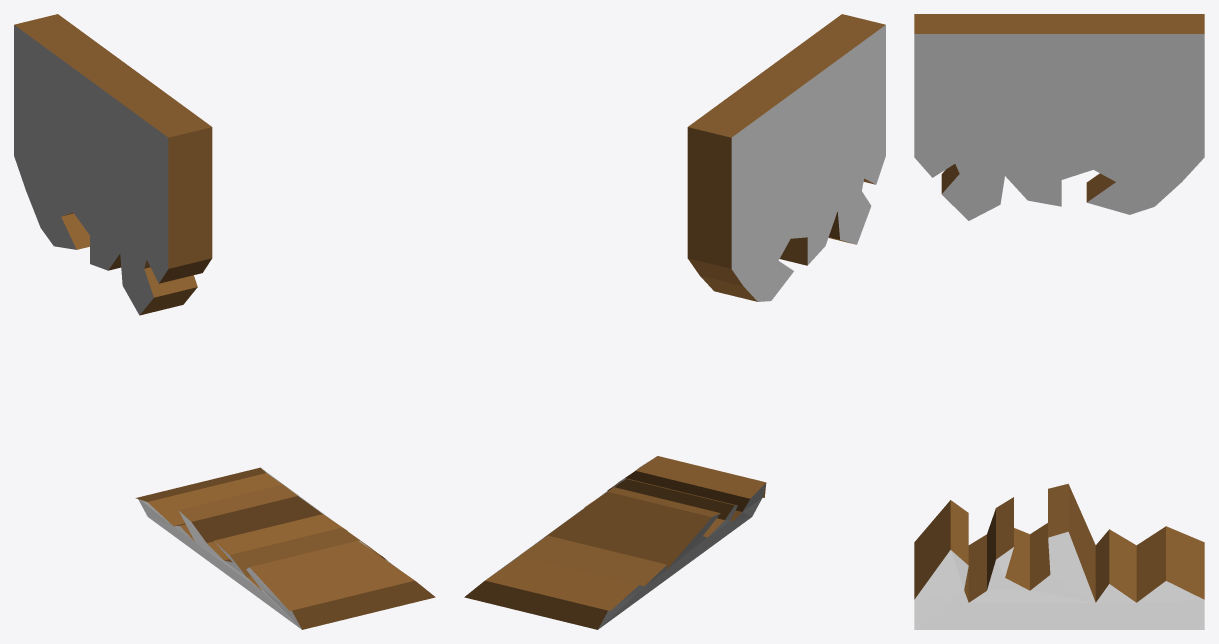
Rendered from model_loc_285_8.obj.
3 renders of one model, left to right at view 1: azimuth 30°, elevation 25°; view 2: azimuth 150°, elevation 25°; view 3: azimuth 270°, elevation 25°, orthographic. The views are drawn at different scales.
Visible parts, largest first — view 1: 1879; view 2: 1879; view 3: 1879.
Boxes of the visible parts, left/top/right/bottom form: 1879: left=14, top=14, right=435, bottom=629; 1879: left=464, top=14, right=885, bottom=629; 1879: left=914, top=14, right=1204, bottom=629.
Bounding box in the file's own units: 128 × 240 × 128.
